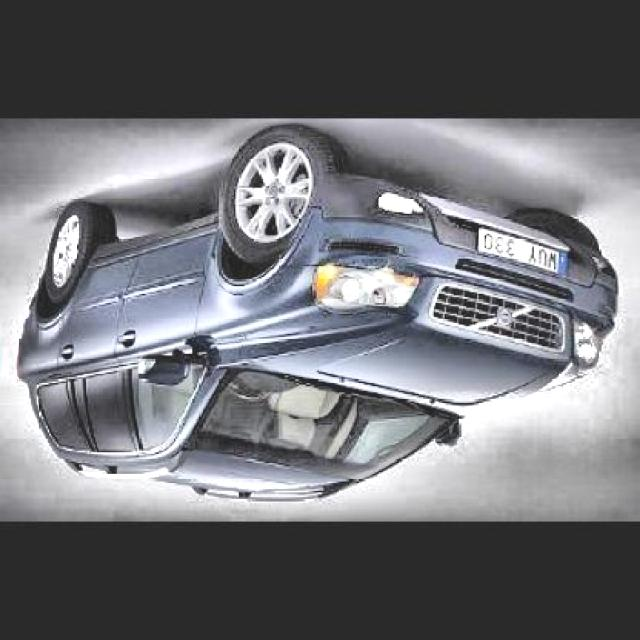black: (46, 182, 580, 492)
